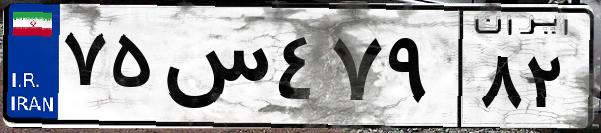2: (525, 38, 570, 115)
4: (270, 28, 330, 110)
5: (110, 28, 158, 98)
7: (330, 28, 385, 110), (57, 26, 110, 100)
8: (475, 38, 525, 113)
9: (385, 28, 445, 110)
س: (158, 20, 270, 120)
